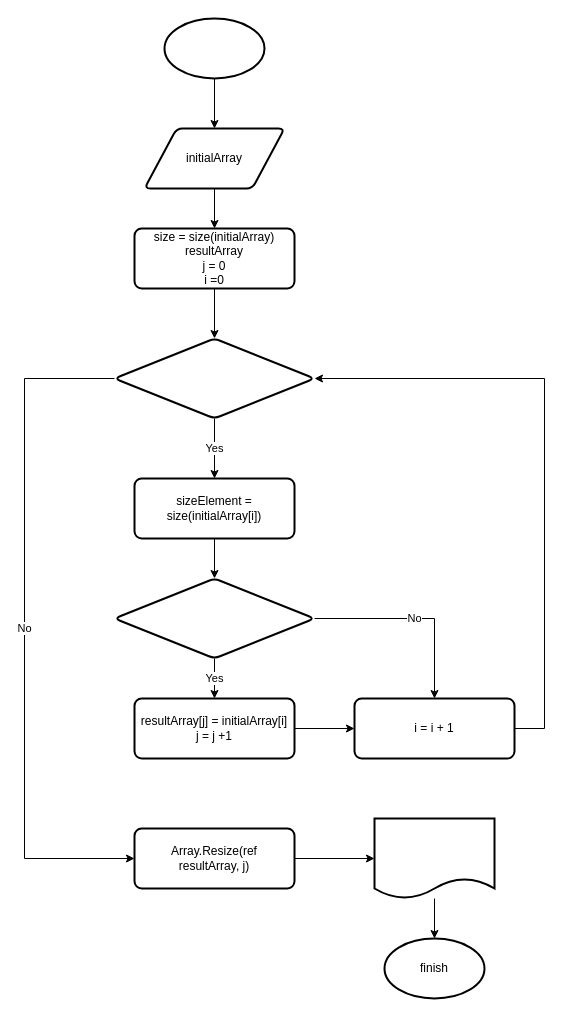
This 570x1016 diagram has some shape labels left out. The centre of each missing label's shape, as x and y in pixels:
"i < size" belongs at [214,378].
"resultArray" belongs at [434,858].
"sizeElement <= 3" belongs at [214,618].
"start" belongs at [214,48].
